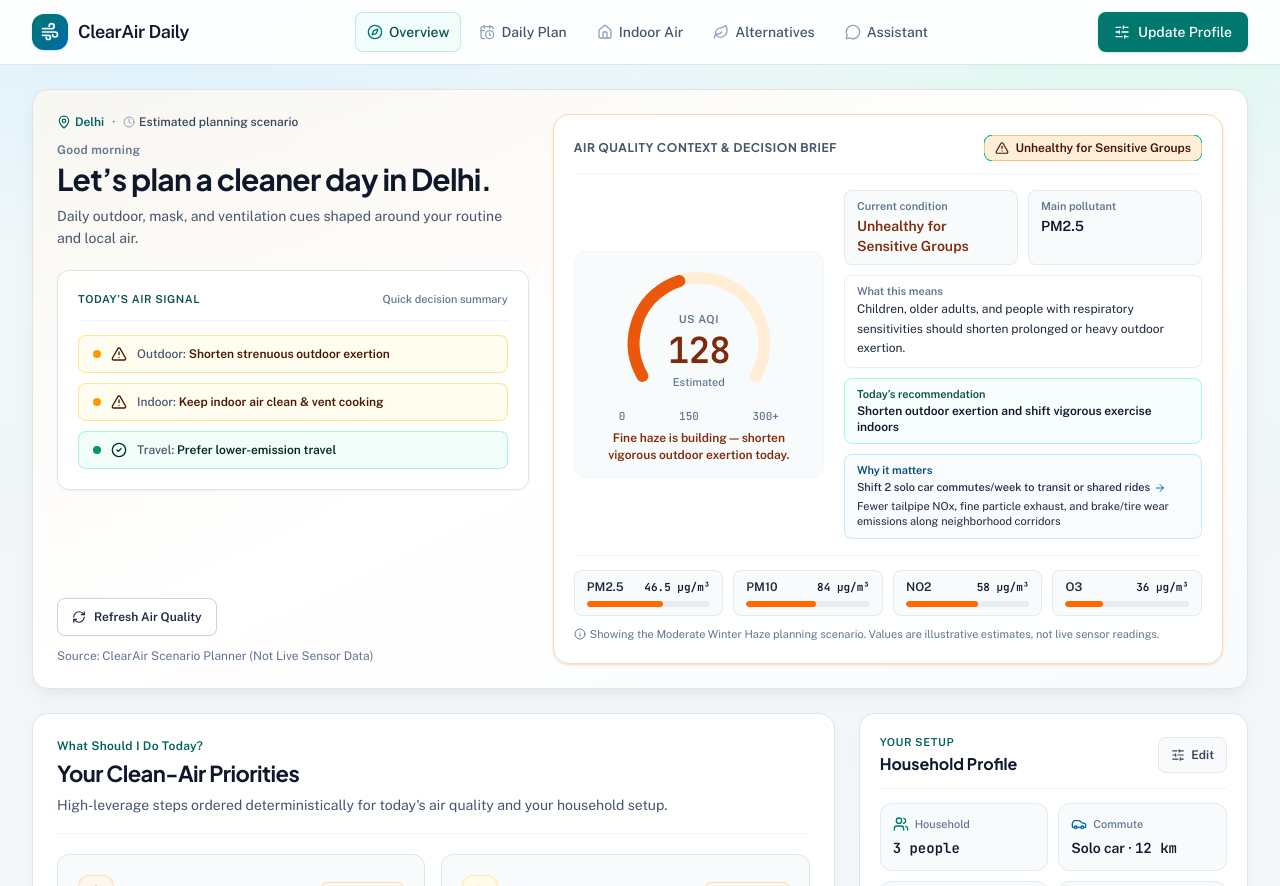
Test: ClearAir Daily UI flows › renders Air Quality Context, Hero greeting, radial gauge, Clean-Air Priorities, Direct Impact Explainer, and Responsible AI notice
Expected: the heading "Let’s plan a cleaner day in Delhi." is shown, [57,162,529,196]
Expected: the heading "Air Quality Context & Decision Brief" is shown, [574,140,837,156]
Click the button "Indoor Air": [640, 32] box [585,12,695,52]
(page scrolled)
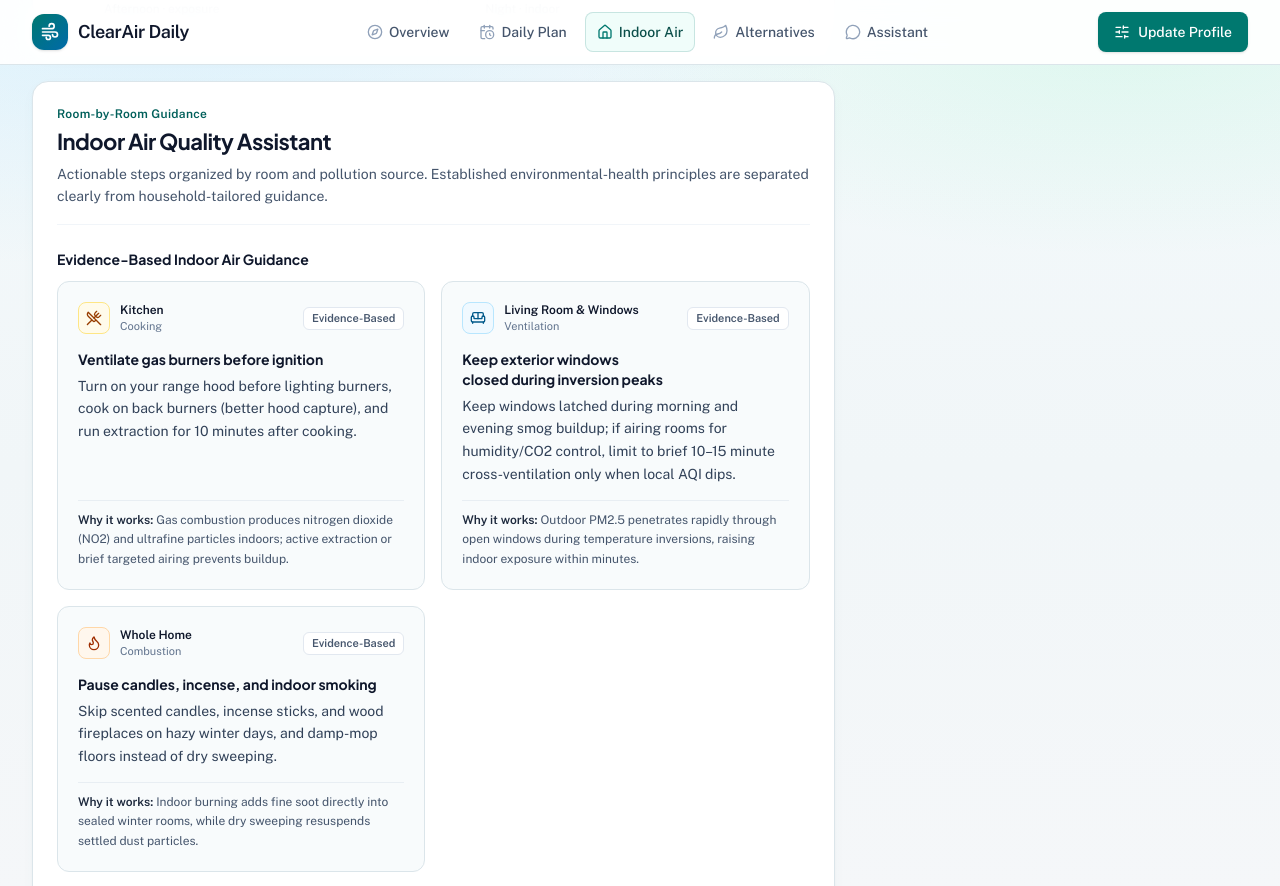
Expected: the button "Indoor Air" is marked as current, [585,12,695,52]
